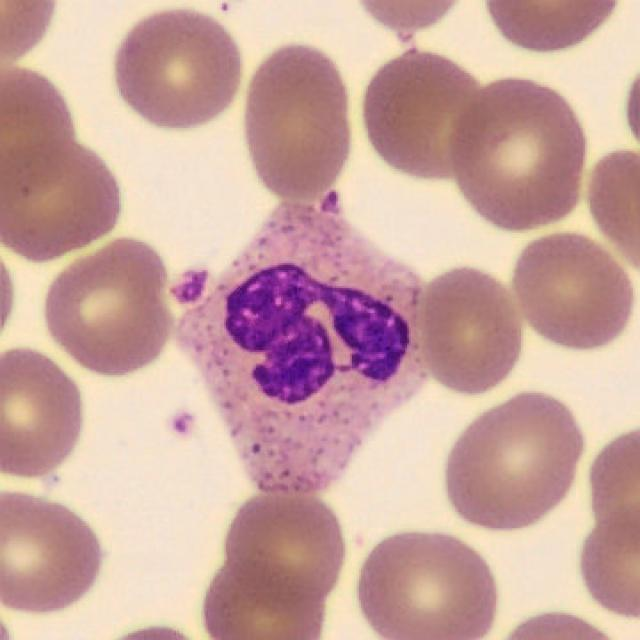Neutrofilo segmentado: (176, 194, 425, 496)
